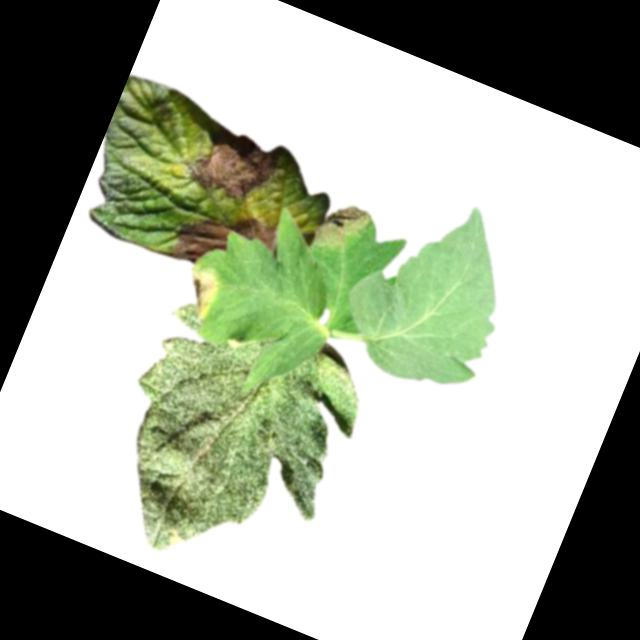Late_blight: (183, 124, 280, 208), (165, 208, 235, 275), (310, 194, 373, 263), (174, 262, 224, 321), (226, 206, 285, 255)
healthy: (80, 294, 375, 602), (325, 173, 535, 406)
